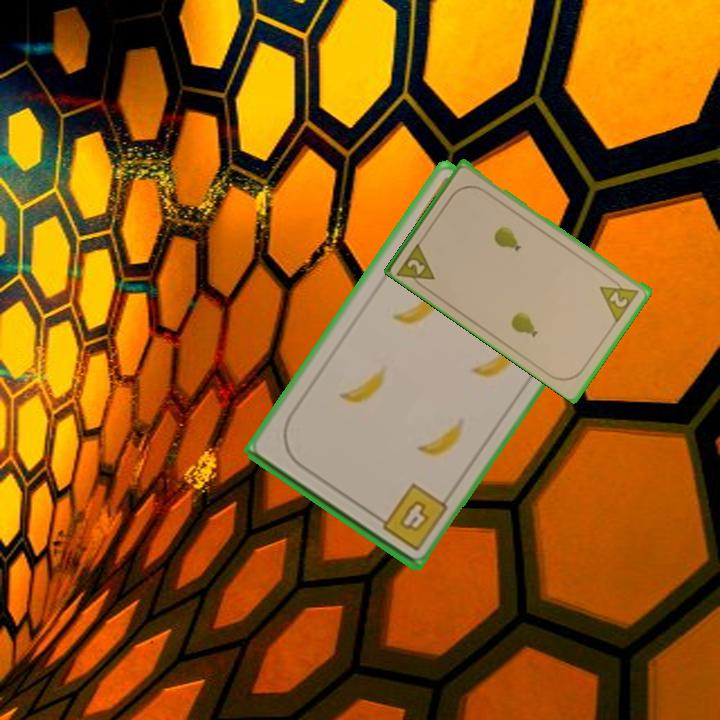2p: (394, 238, 438, 293), (596, 273, 642, 324)
4b: (369, 479, 451, 554)
